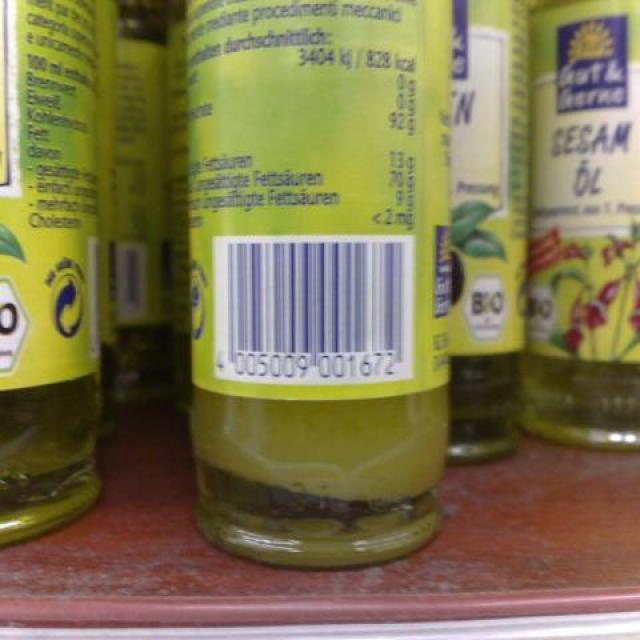Barcode: (213, 235, 414, 388)
